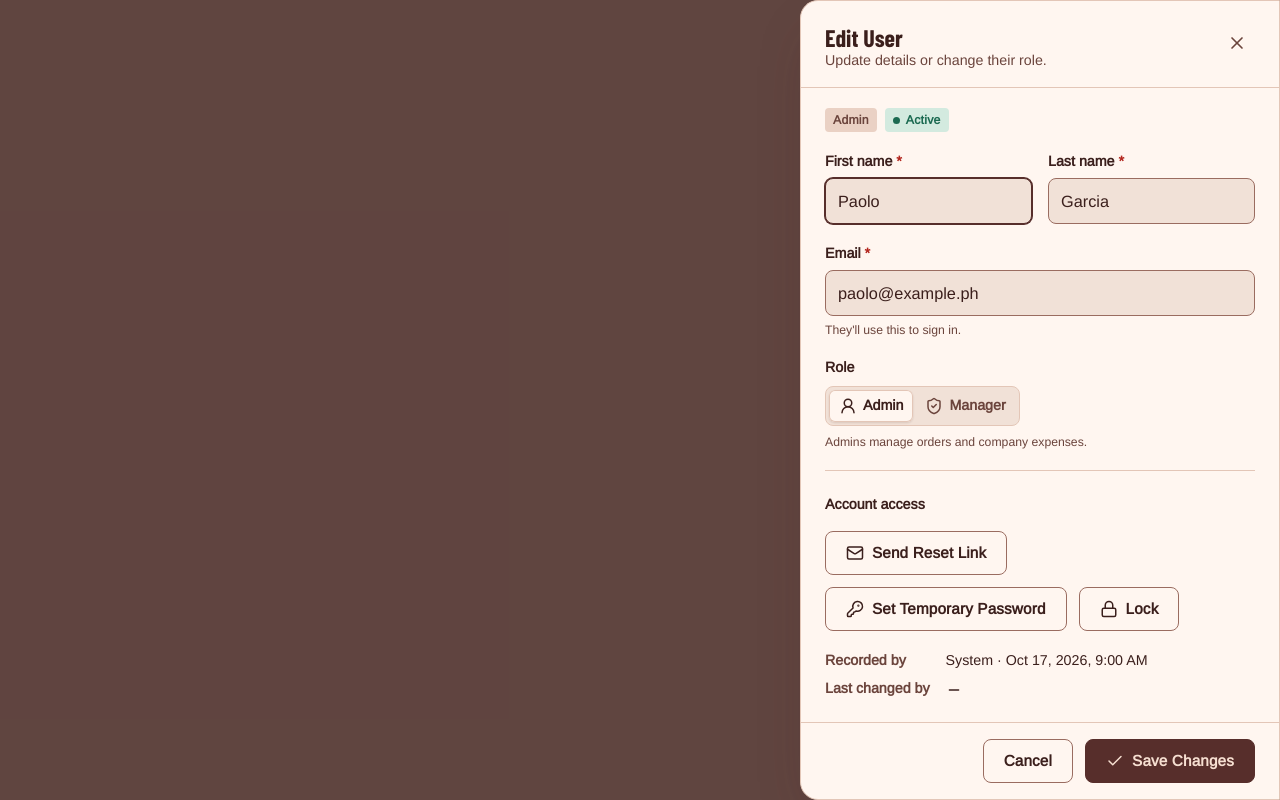
Test: U3 checks before sending (OR-3) › shows the blank-name messages, sends nothing, keeps Save Changes enabled and focuses First name
Clear the field labelled "First name *" at (928, 201), box left=826, top=179, right=1031, bottom=223
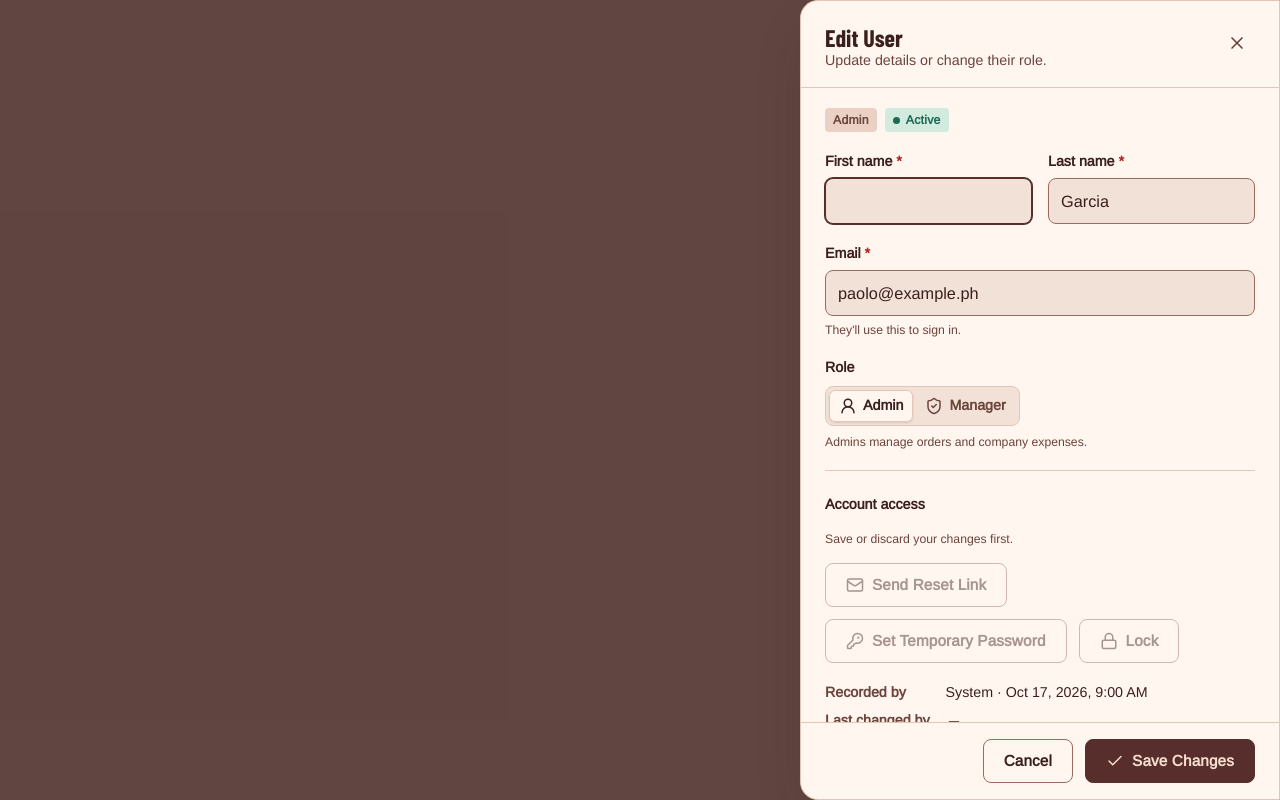
Clear the field labelled "Last name *" at (1152, 201), box left=1049, top=179, right=1254, bottom=223
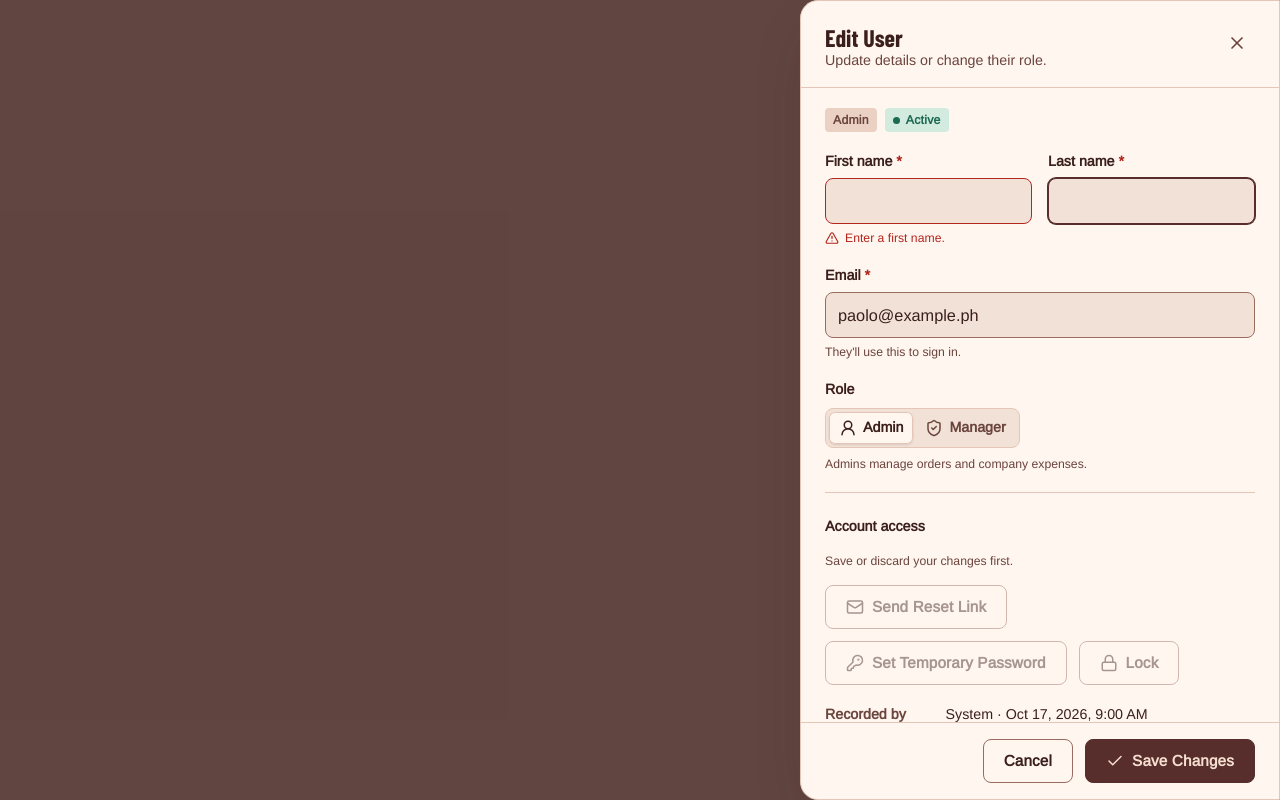
Click the button "Save Changes".
click(1170, 761)  # box left=1085, top=739, right=1255, bottom=783
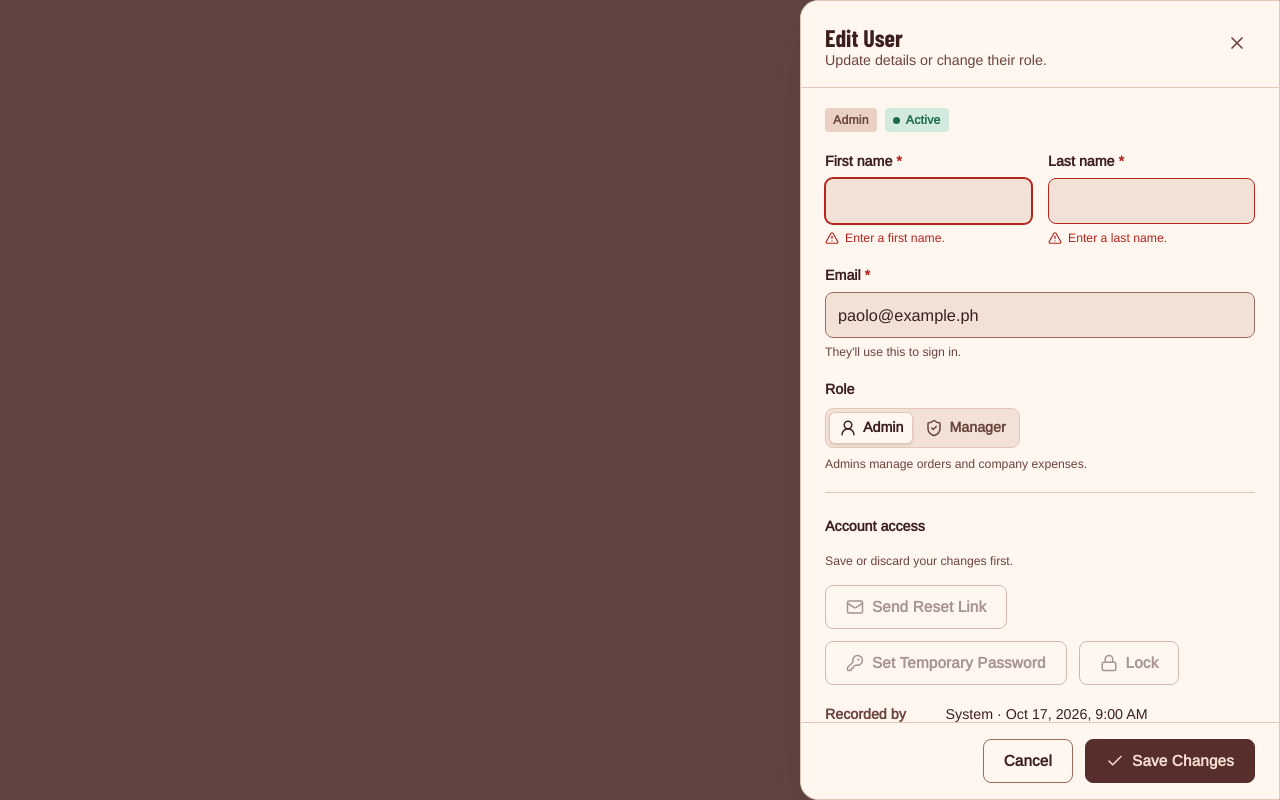
Expected: the text "Enter a first name." is shown, left=825, top=231, right=945, bottom=245
Expected: the text "Enter a last name." is shown, left=1048, top=231, right=1167, bottom=245
